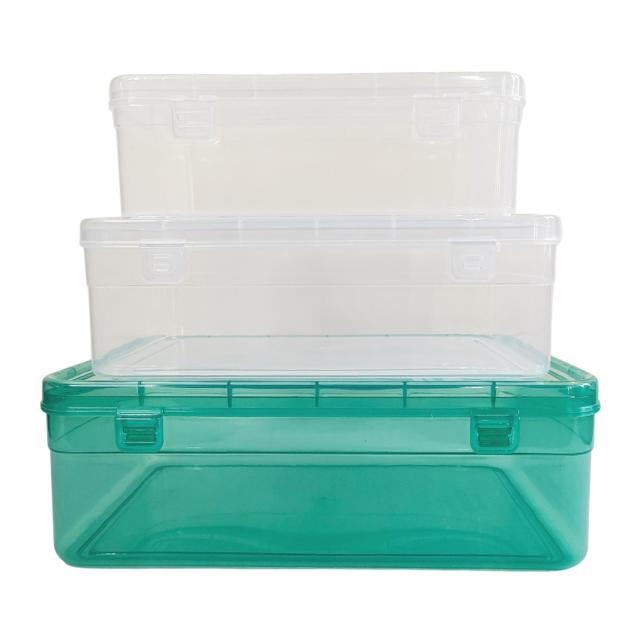plastic_box: (29, 357, 613, 585), (74, 209, 592, 421), (87, 47, 556, 225)
